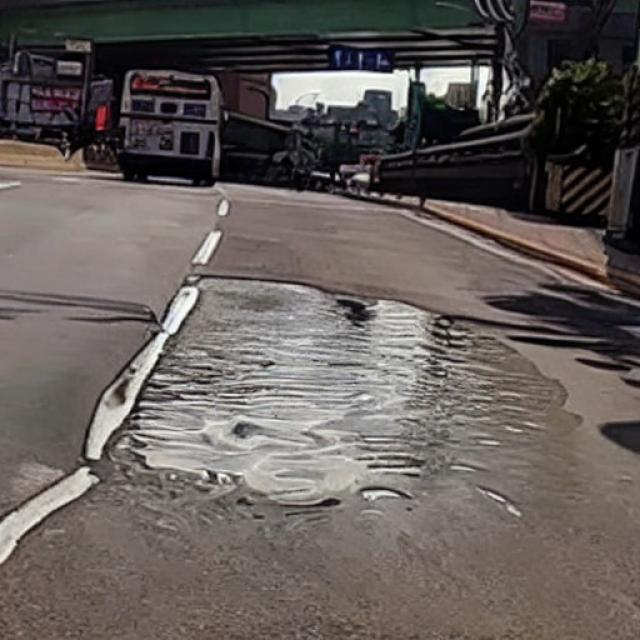puddle: (123, 278, 582, 503)
